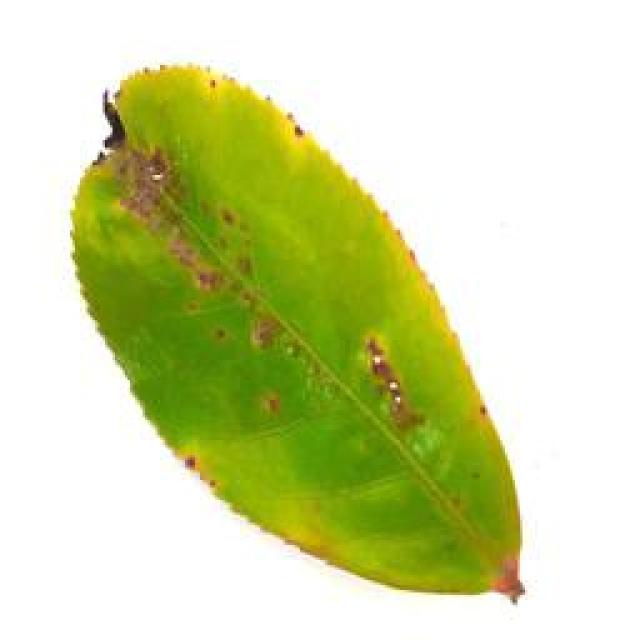Helopeltis: (72, 62, 530, 600)
